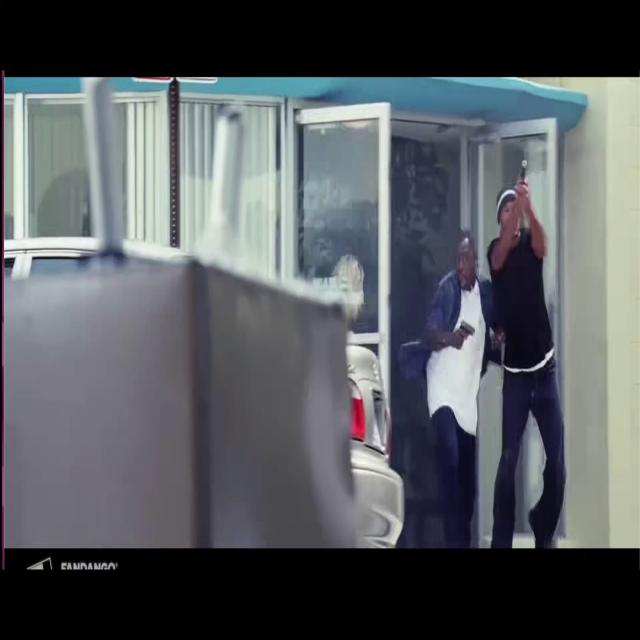weapons: (452, 308, 481, 356), (515, 151, 533, 222)
